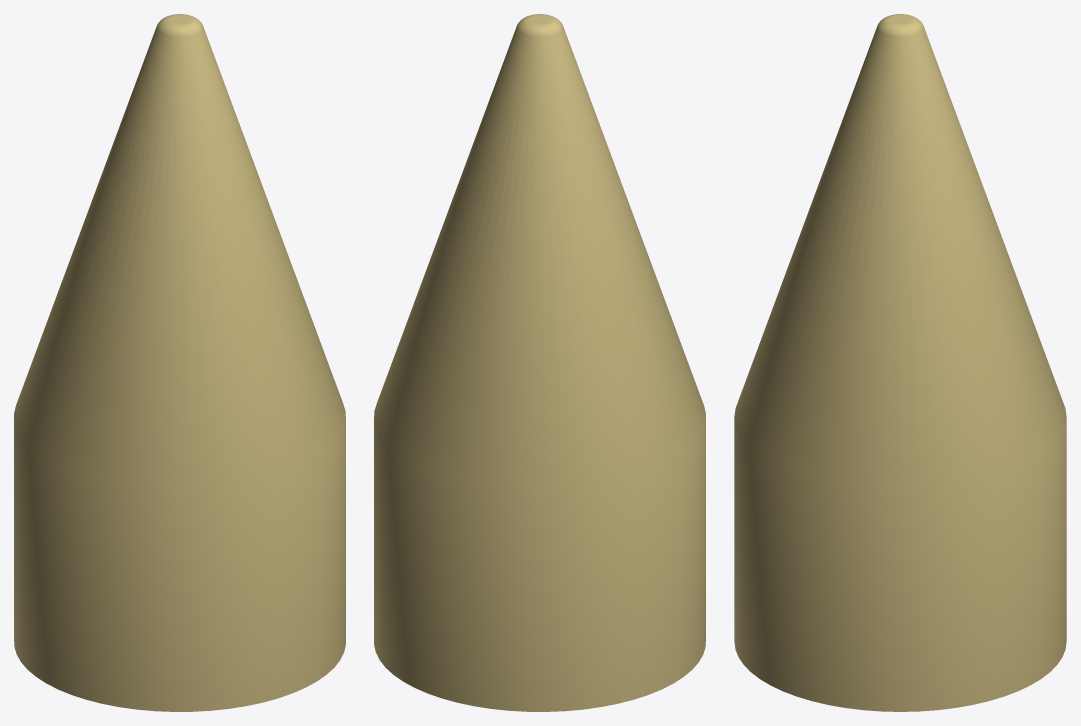
The model's file is Bullet.fbx.
3 views of the same model, side by side, from view 1: azimuth 30°, elevation 25°; view 2: azimuth 150°, elevation 25°; view 3: azimuth 270°, elevation 25° (orthographic).
Visible parts, largest first — view 1: Cylinder; view 2: Cylinder; view 3: Cylinder.
Part boxes in pixels (x1,y1,x2,y2): Cylinder: (14,14,345,711); Cylinder: (374,14,705,711); Cylinder: (734,14,1066,711).
Bounding box in the file's own units: 11.59 × 23.95 × 11.59.
